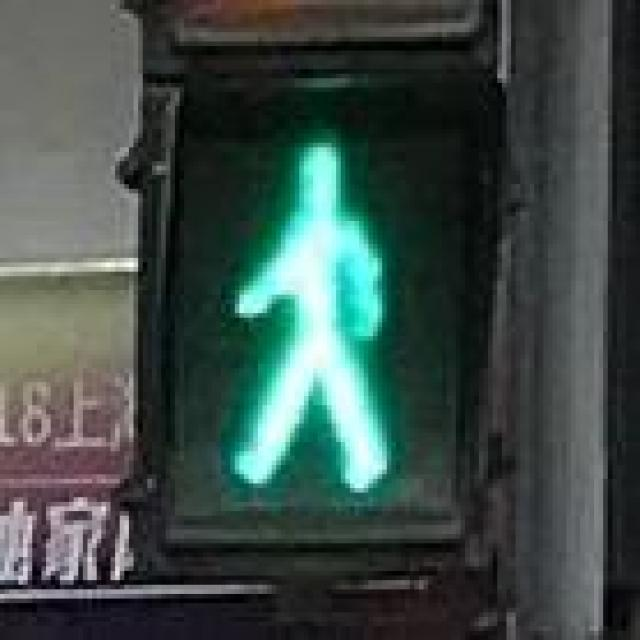geen-crossing: (152, 102, 474, 530)
